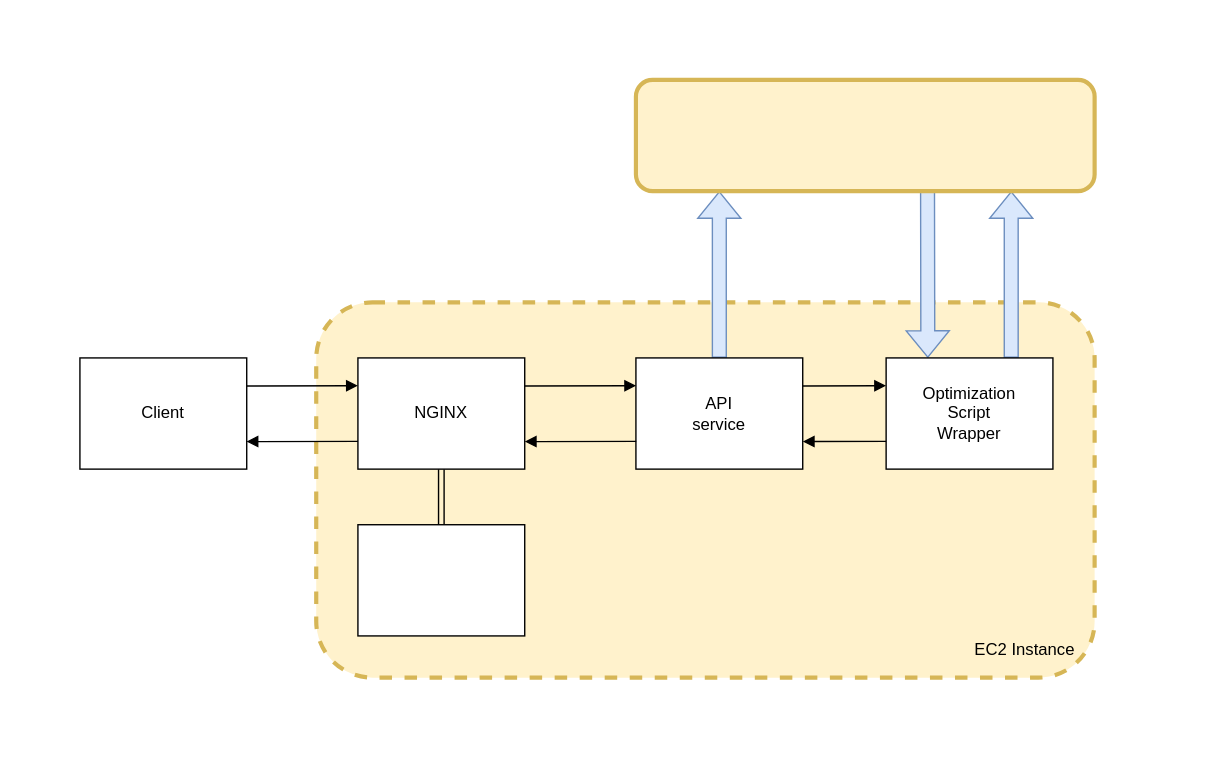
Some shapes in this 1215 by 770 pixel diagram are drawn without their labels. The centre of each missing label's shape, as x and y in pixels:
"Frontend" belongs at (x=441, y=579).
"S3 bucket" belongs at (x=864, y=135).
